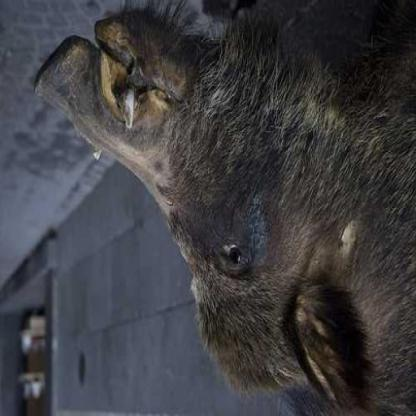boar: (43, 24, 410, 416)
